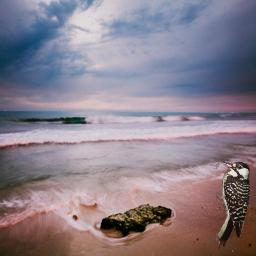Woodpecker: (216, 160, 250, 251)
